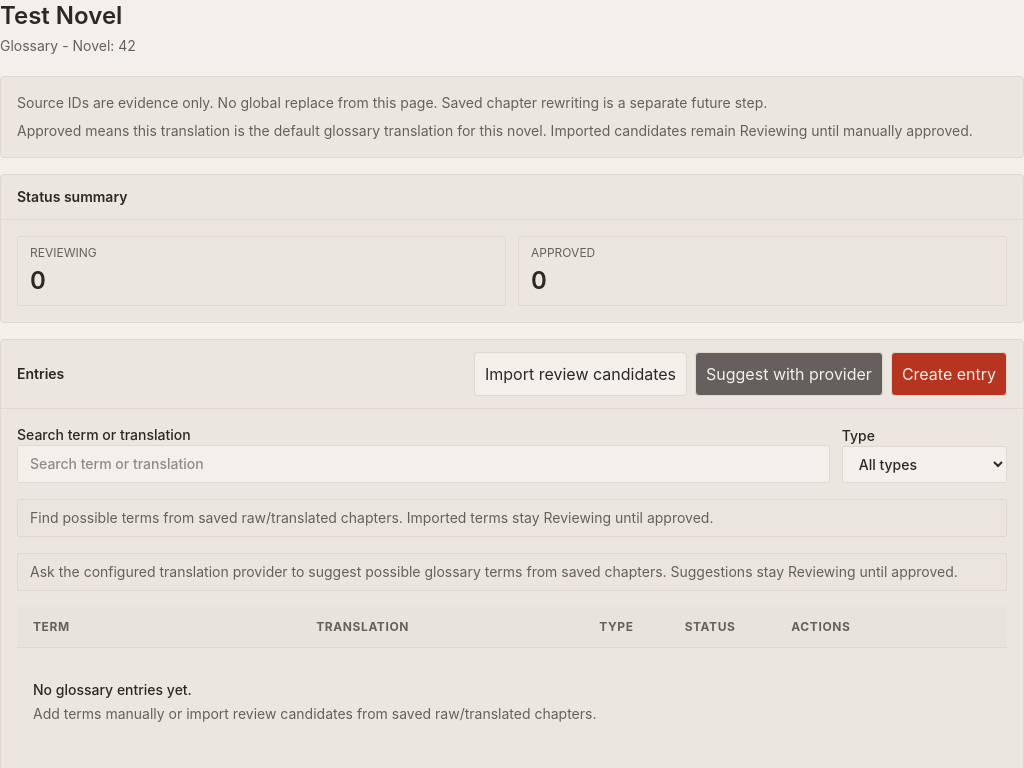
Test case: AdminGlossaryShell › previews candidate import and renders compact counts and candidates
Click the button "Import review candidates" at {"x": 580, "y": 374}, box x1=474 y1=352 x2=687 y2=396
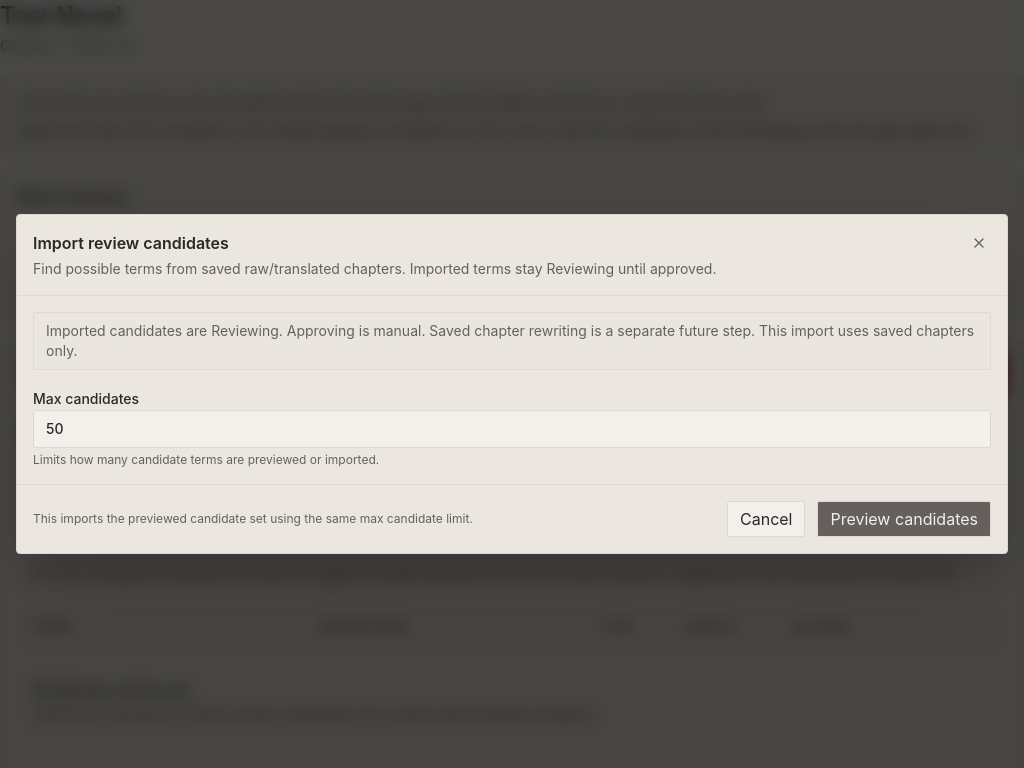
Replace the text in the number field labelled "Max candidates" with "25" at {"x": 512, "y": 429}, box x1=33 y1=410 x2=991 y2=448
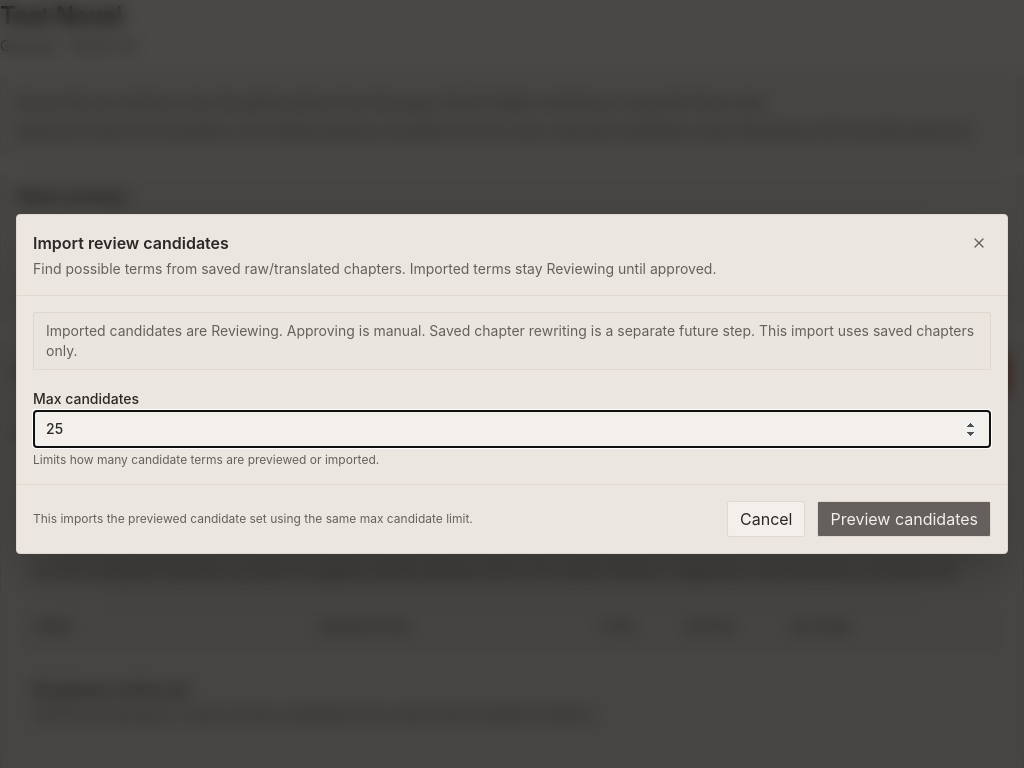
Click the button "Preview candidates" at {"x": 904, "y": 519}, box x1=818 y1=501 x2=991 y2=537
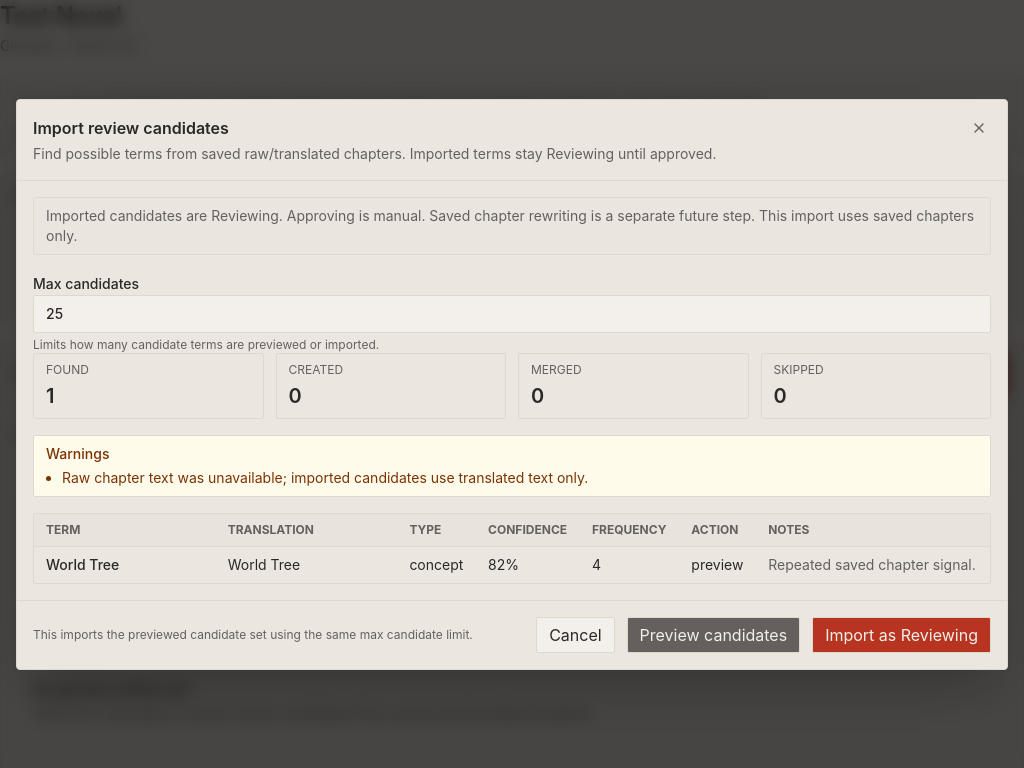
Expected: the text "Found" is shown, x1=46 y1=362 x2=89 y2=376
Expected: the 1st text "World Tree" is shown, x1=34 y1=546 x2=216 y2=582
Expected: the text "82%" is shown, x1=476 y1=546 x2=580 y2=582
